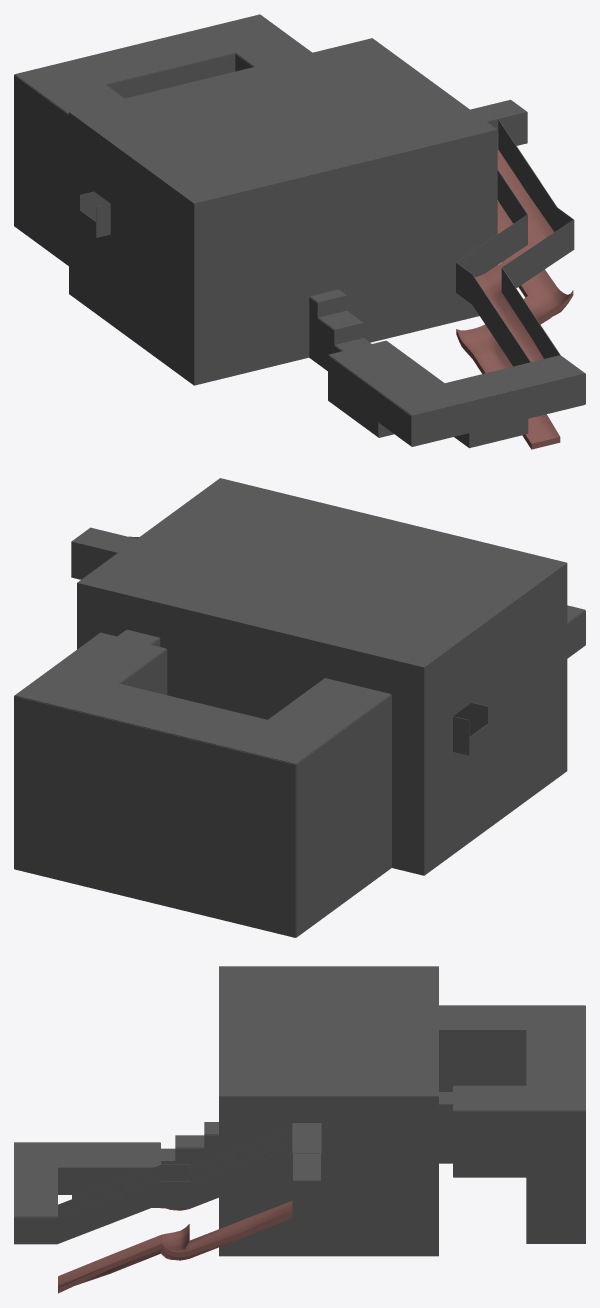
The model's file is FinalLevel_Blockout_Part1.fbx.
3 views of the same model, one above another, from view 1: azimuth 30°, elevation 25°; view 2: azimuth 150°, elevation 25°; view 3: azimuth 270°, elevation 25° (orthographic). The views are drawn at different scales.
Visible parts, largest first — view 1: MudRamp5, MudRamp, pCube2790, pCube2791, pCube2786, pCube2789, pCube2788, pCube2787; view 2: no part large enough to name; view 3: MudRamp5, pCube2786, pCube2788, pCube2787, pCube2789.
Part boxes in pixels (bbox=[...]): MudRamp5: bbox=[456, 201, 573, 449]; MudRamp: bbox=[475, 150, 553, 361]; pCube2790: bbox=[502, 219, 573, 287]; pCube2791: bbox=[456, 214, 527, 277]; pCube2786: bbox=[498, 119, 557, 231]; pCube2789: bbox=[472, 275, 530, 366]; pCube2788: bbox=[501, 267, 560, 358]; pCube2787: bbox=[497, 169, 527, 244]; MudRamp5: bbox=[58, 1201, 292, 1293]; pCube2786: bbox=[189, 1142, 292, 1207]; pCube2788: bbox=[58, 1177, 160, 1243]; pCube2787: bbox=[189, 1129, 292, 1181]; pCube2789: bbox=[58, 1165, 160, 1216].
Size of the model in its own units: 13480 by 7896 by 19520.
